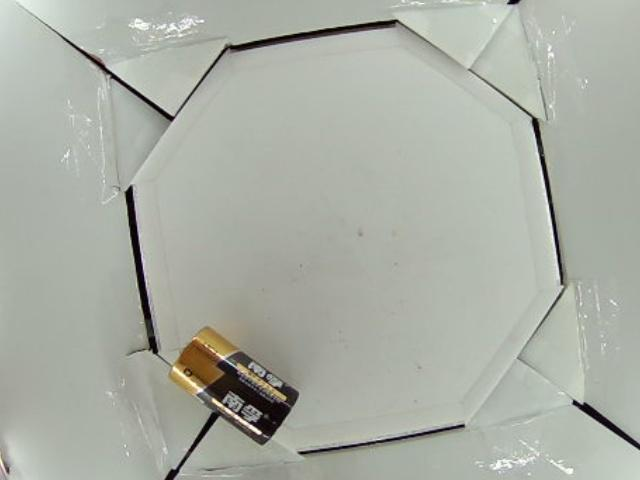Battery: (168, 326, 300, 444)
